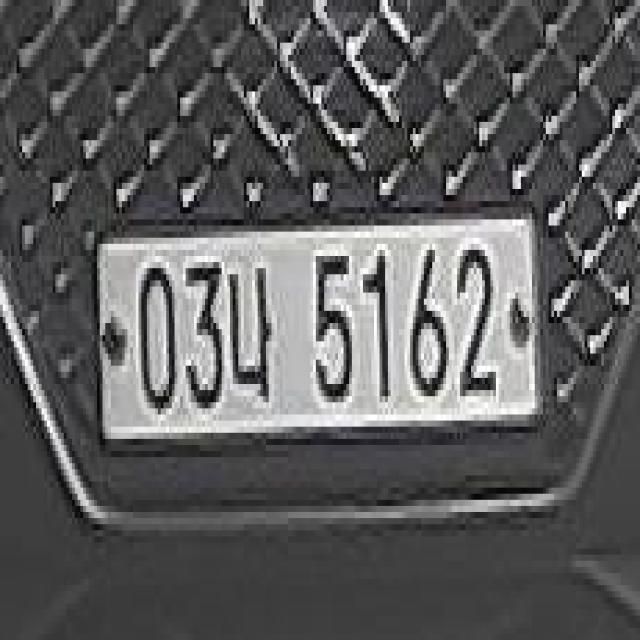illegal_plate: (92, 207, 538, 453)
